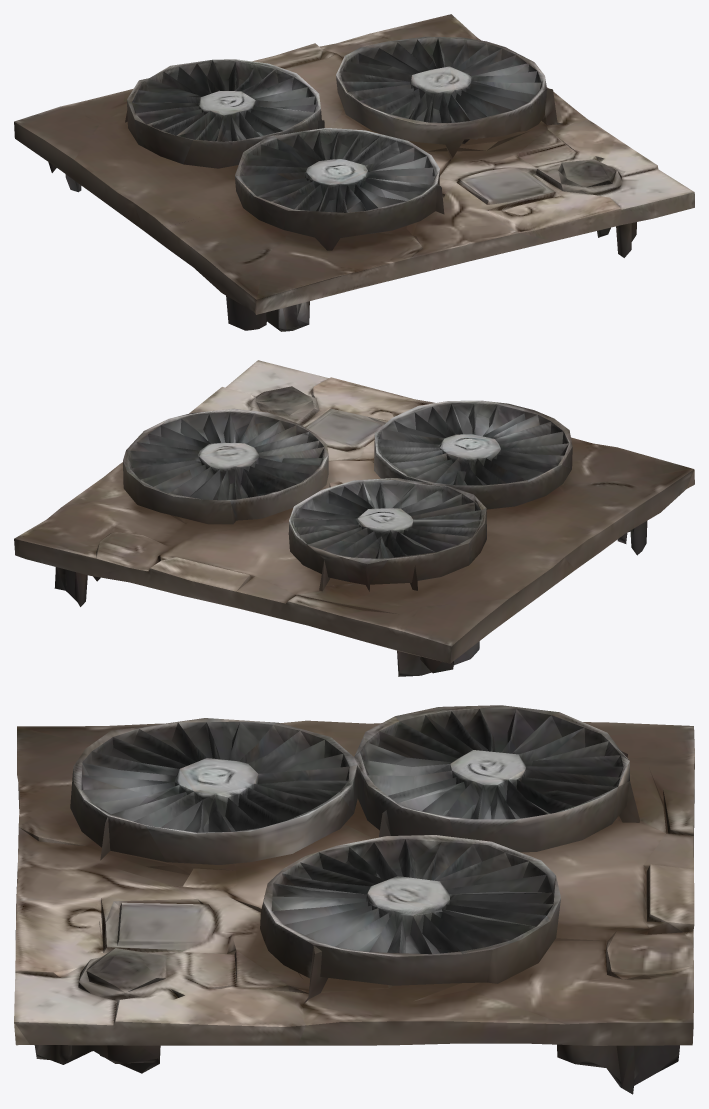
The model's file is m2FanLiftPlatform.glb.
The picture shows the model from 3 angles, top to bottom: view 1: azimuth 30°, elevation 25°; view 2: azimuth 150°, elevation 25°; view 3: azimuth 270°, elevation 25°; orthographic projection. The views are drawn at different scales.
Visible parts, largest first — view 1: model; view 2: model; view 3: model.
Boxes of the visible parts, x1,y1,x2,y2 form: model: [14, 14, 694, 331]; model: [14, 360, 694, 676]; model: [14, 705, 694, 1094].
Bounding box in the file's own units: 1.9 × 0.4247 × 1.83.
1 material, 1 textured.
